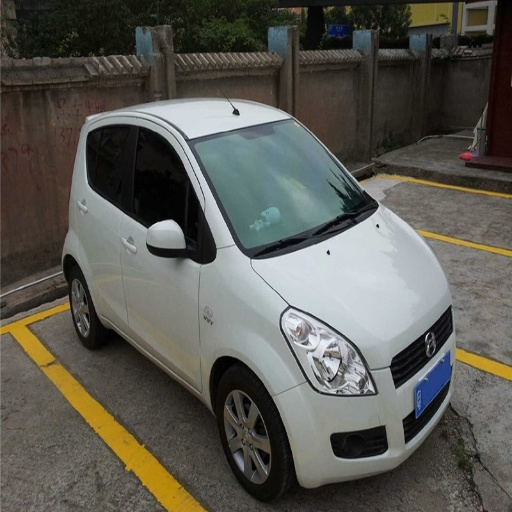front_bumper: (270, 333, 451, 487)
front_right_door: (120, 119, 212, 387)
front_right_light: (282, 307, 375, 395)
